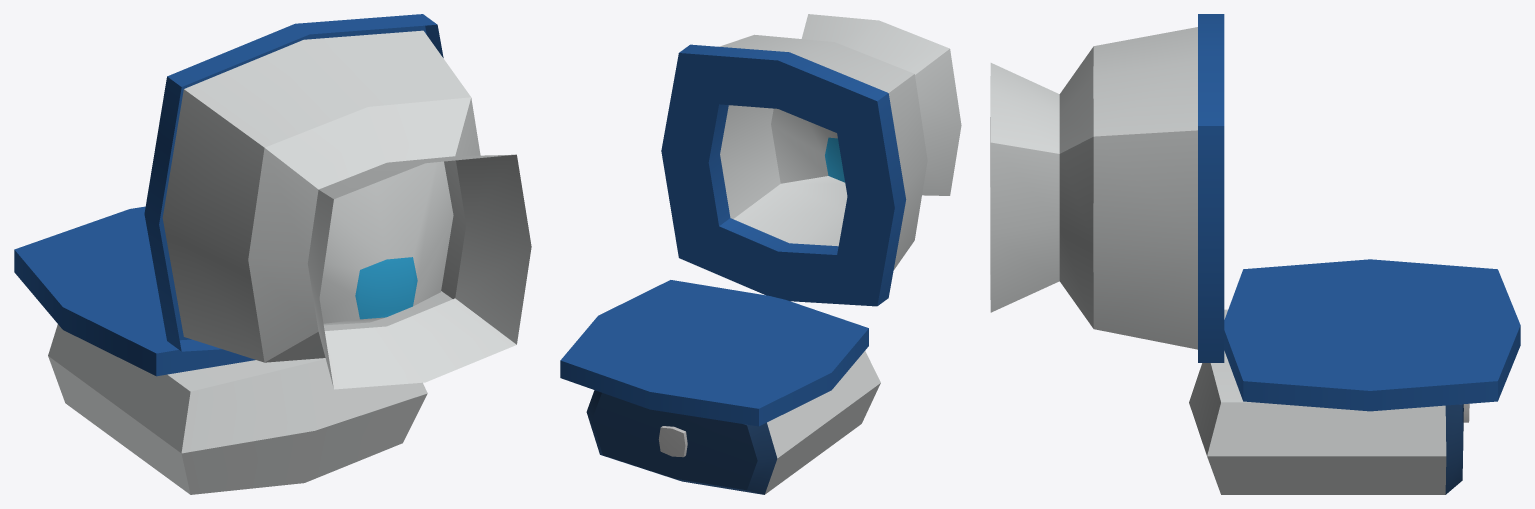
The model's file is Toilet Bowl 01.FBX.
3 views of the same model, side by side, from view 1: azimuth 30°, elevation 25°; view 2: azimuth 150°, elevation 25°; view 3: azimuth 270°, elevation 25° (orthographic). The views are drawn at different scales.
Parts seen in each view (by area): view 1: Toilet Bowl 01; view 2: Toilet Bowl 01; view 3: Toilet Bowl 01.
Boxes of the visible parts, left/top/right/bottom form: Toilet Bowl 01: left=14, top=14, right=531, bottom=494; Toilet Bowl 01: left=560, top=14, right=961, bottom=494; Toilet Bowl 01: left=990, top=14, right=1520, bottom=494.
Bounding box in the file's own units: 71.99 × 103 × 122.
1 material, 1 textured.
